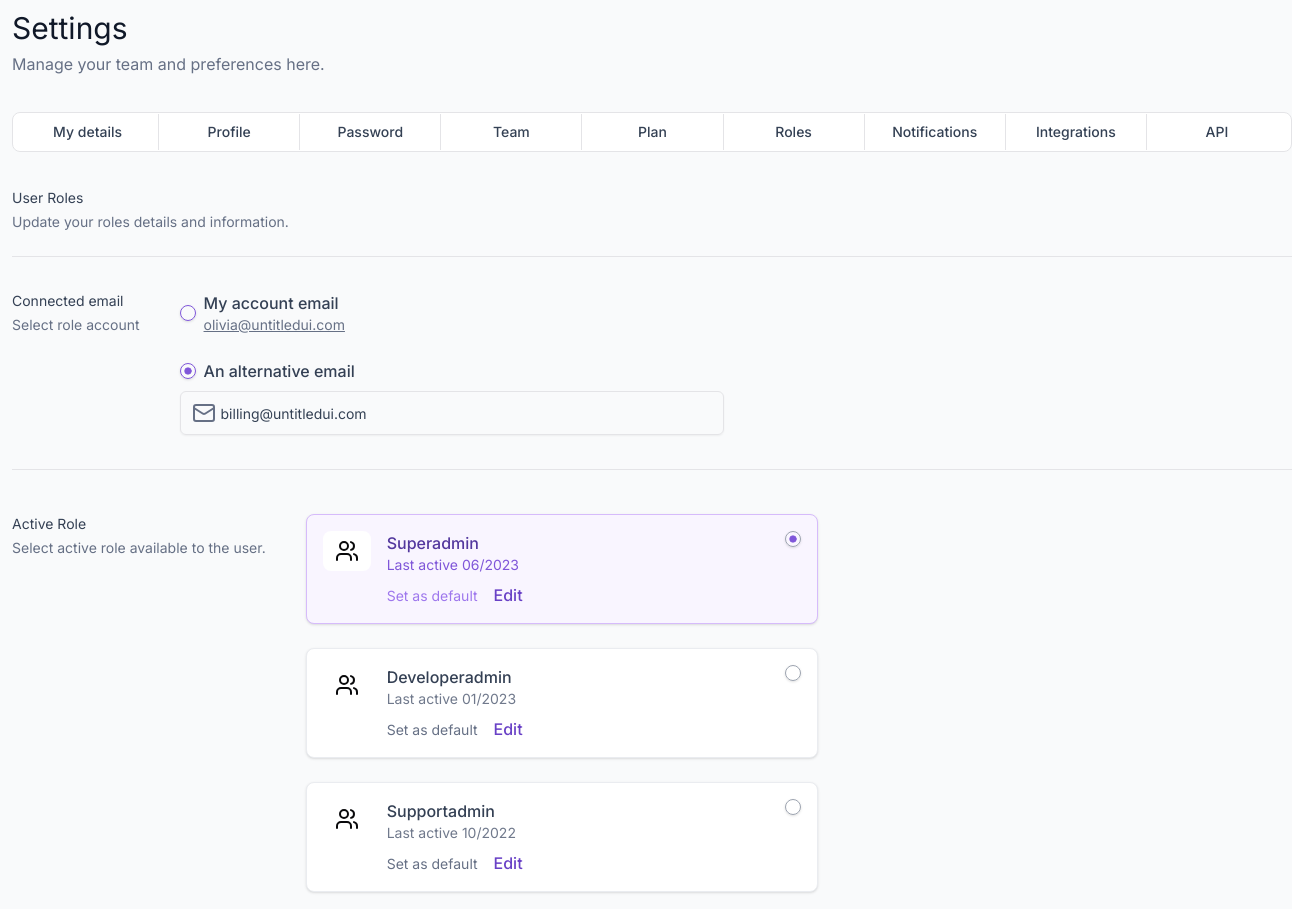
Test case: Settings Component › should render and select a role on the radio button
Expected: the text "Superadmin" is shown, [387, 533, 479, 553]
Expected: the text "Developeradmin" is shown, [387, 667, 512, 687]
Click the radio button named "Supportadmin" in the row of "Supportadmin": [793, 807] box [785, 799, 801, 815]
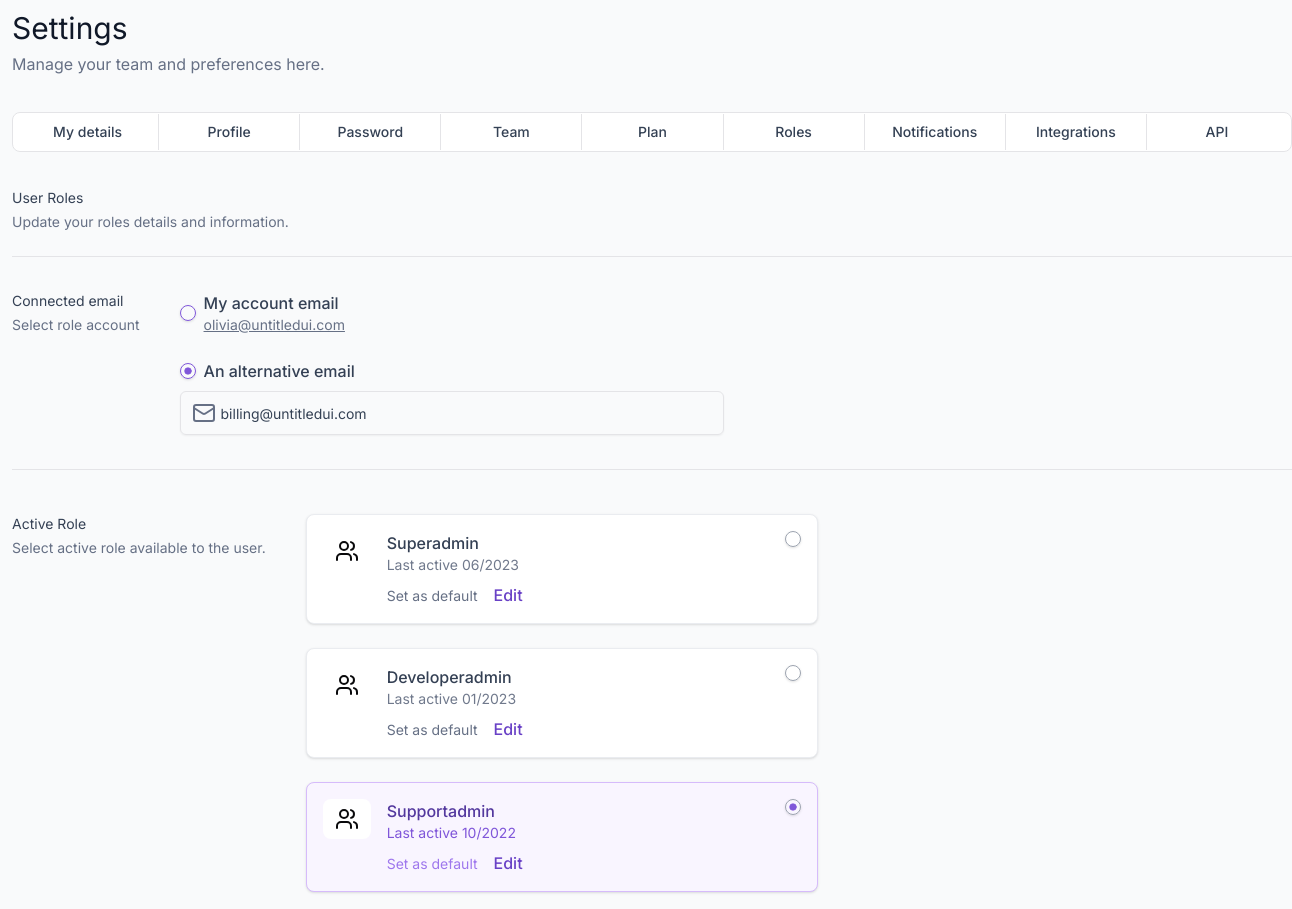
Expected: the radio button named "Supportadmin" in the row of "Supportadmin" is checked, [785, 799, 801, 815]
Expected: the radio button named "Superadmin" in the row of "Superadmin" is not checked, [785, 531, 801, 547]
